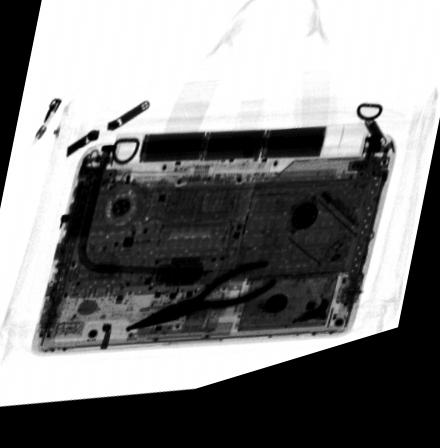Pliers: (123, 272, 279, 338)
